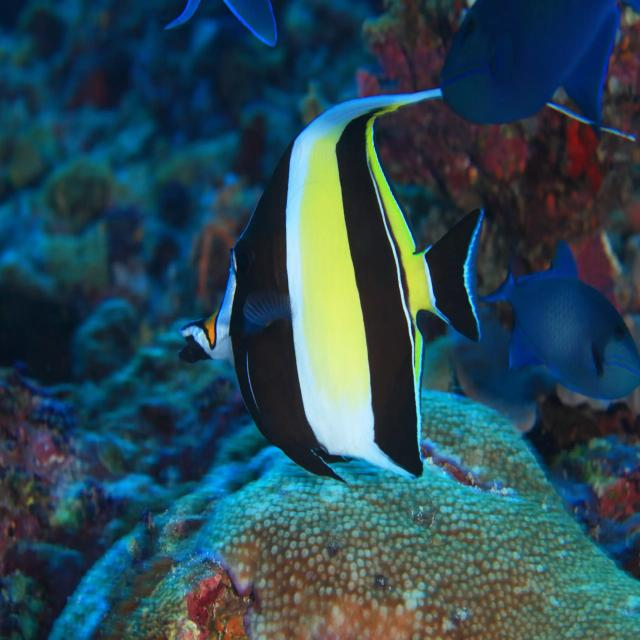MorishIdol: (176, 85, 486, 488)
